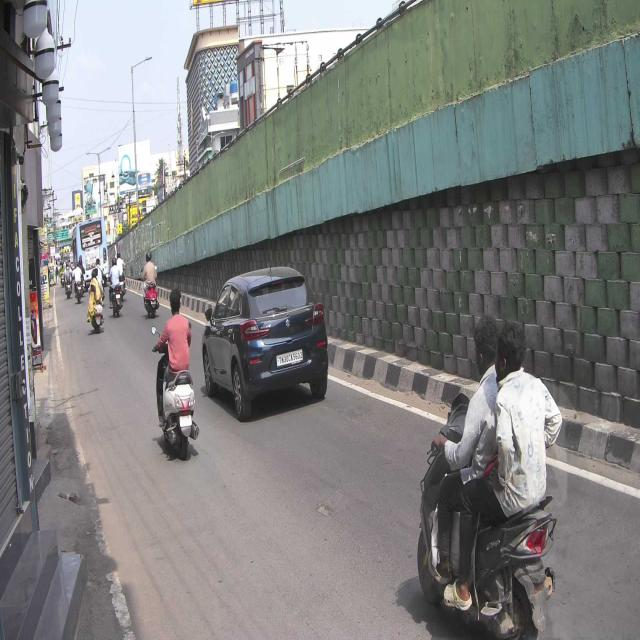double_rider: (418, 308, 566, 640)
single_rider: (151, 287, 201, 464)
